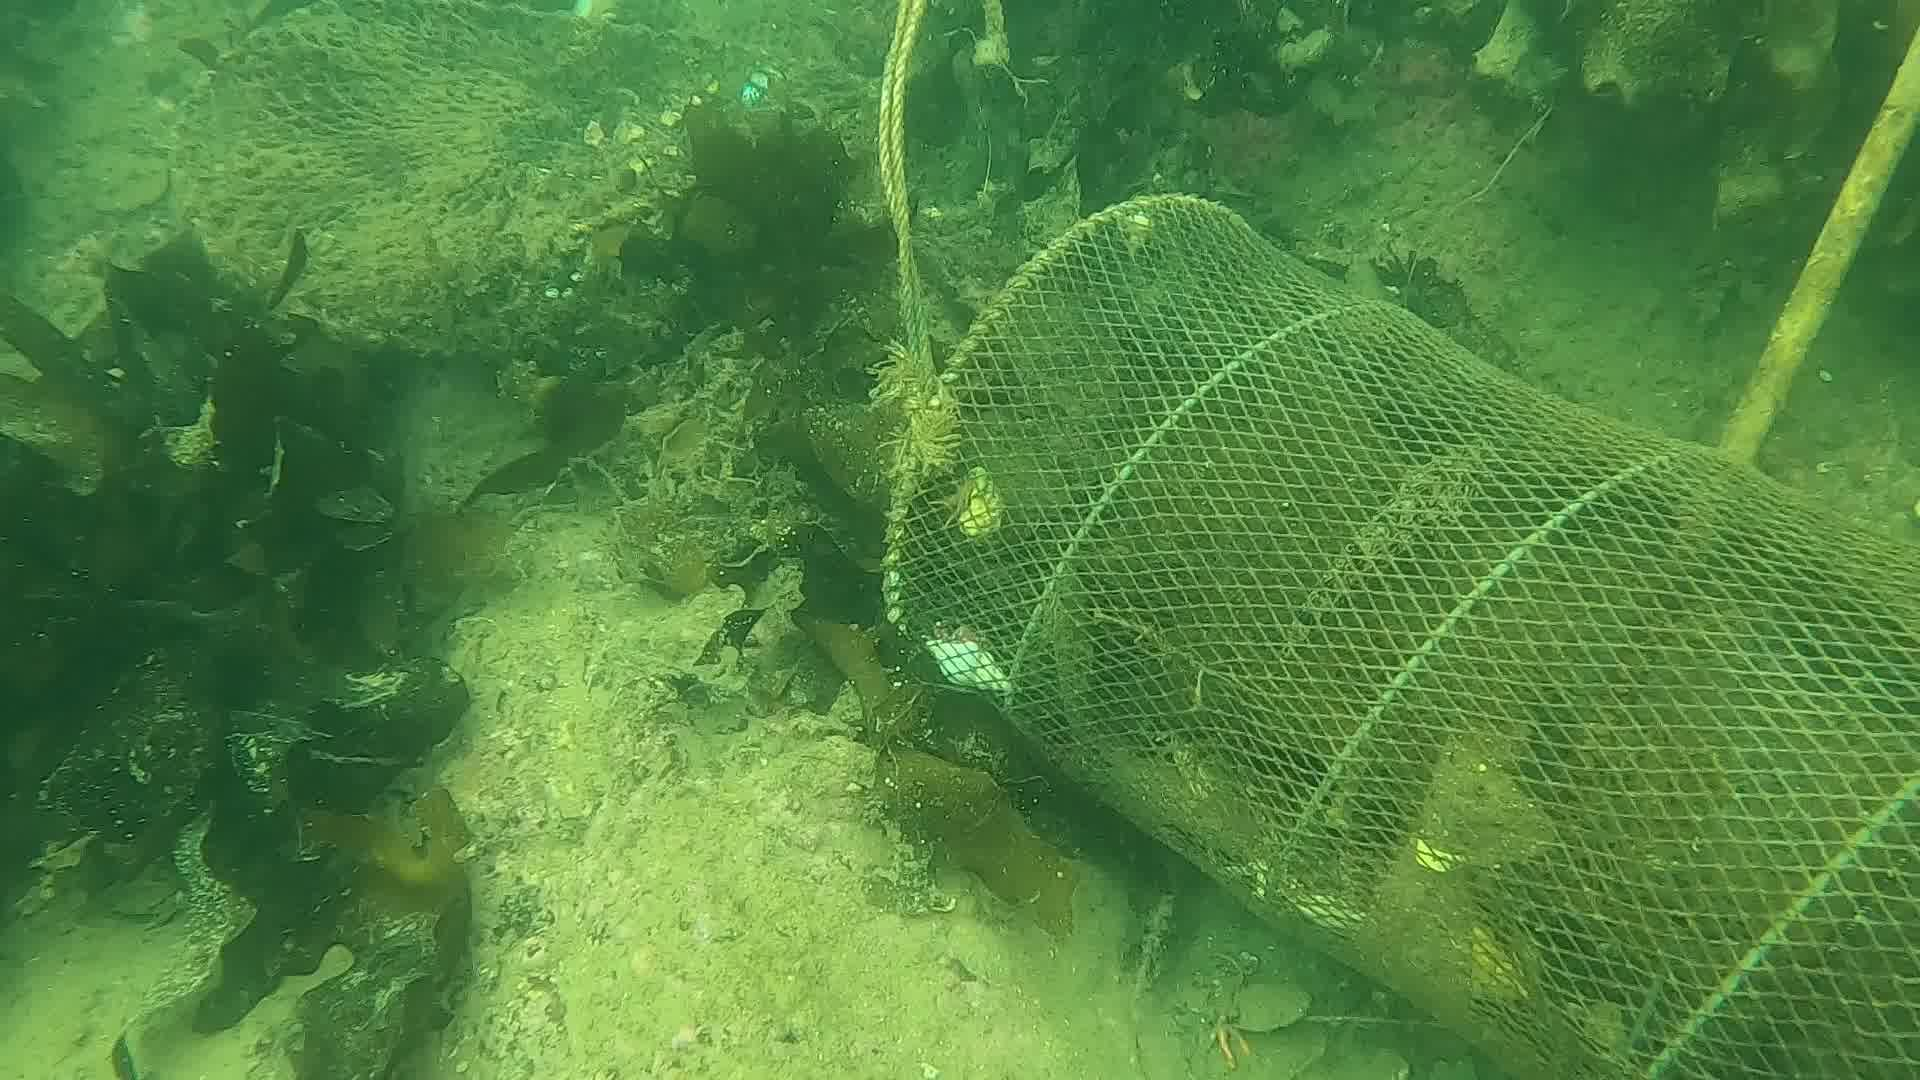bundle of ropes: (872, 0, 942, 406)
spring fish trap: (880, 187, 1920, 1080)
